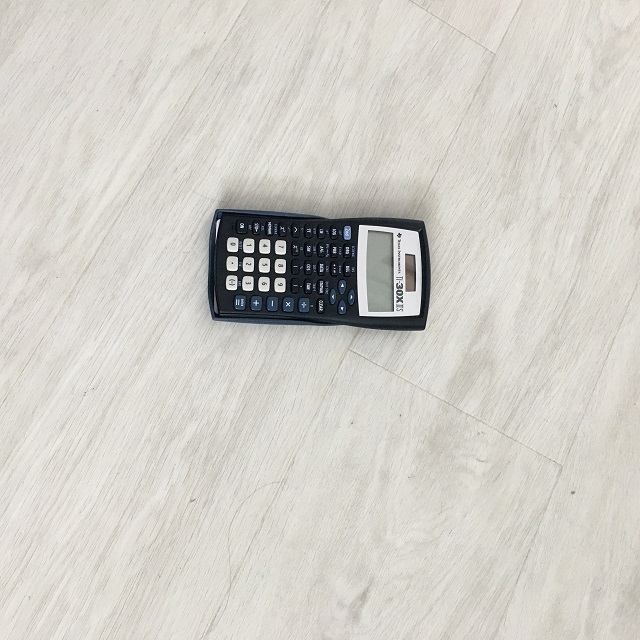calculator: (205, 206, 432, 334)
